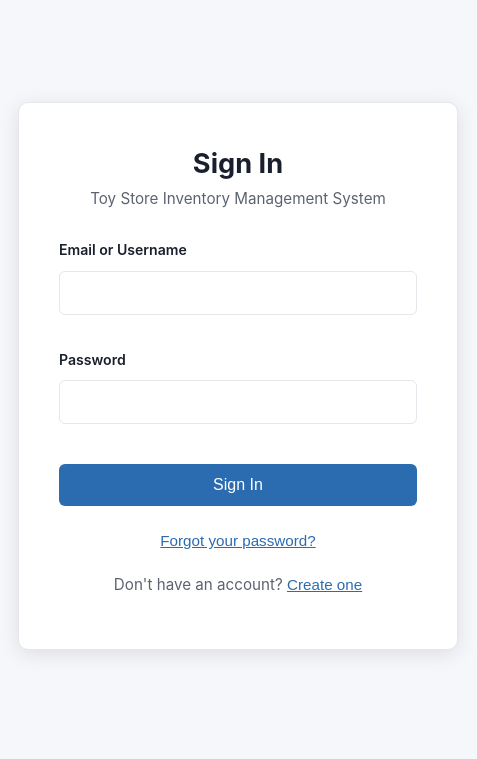
Test: Login Page › switches back to sign in from registration
Note: Go to register
Click the button "Create one".
click(325, 585)  # box x1=287 y1=576 x2=362 y2=593
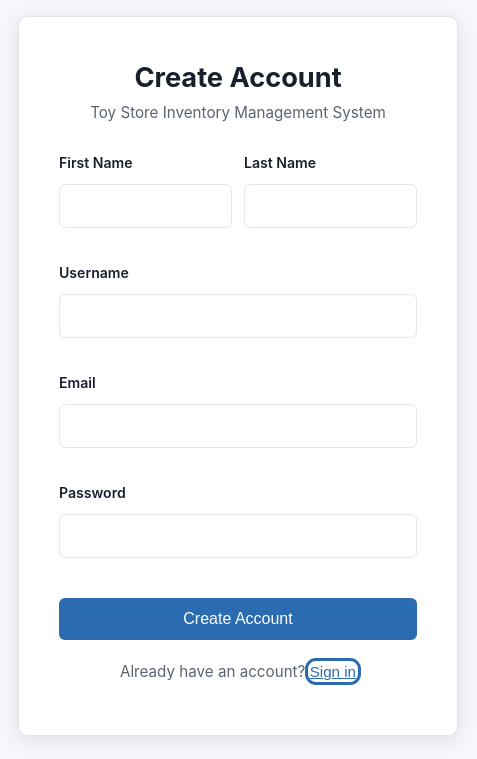
Expected: the heading "Create Account" is shown, x1=134 y1=61 x2=342 y2=94
Note: Go back to sign in
Click the button "Sign in".
click(333, 671)  # box x1=310 y1=663 x2=356 y2=680
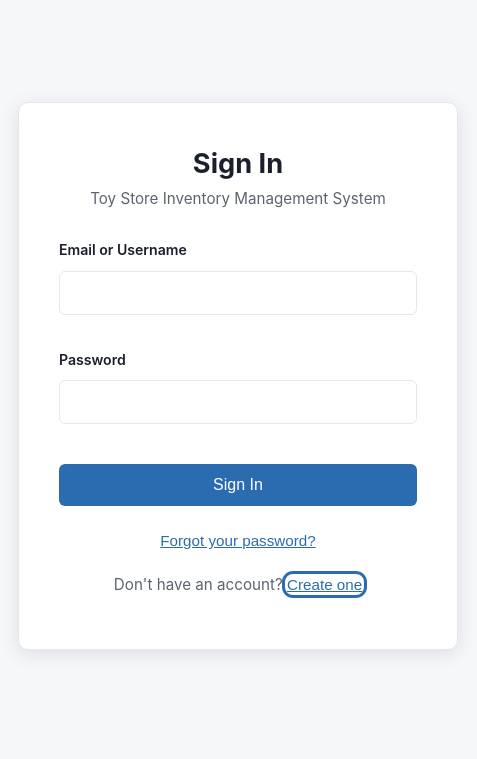
Expected: the heading "Sign In" is shown, x1=193 y1=147 x2=283 y2=180
